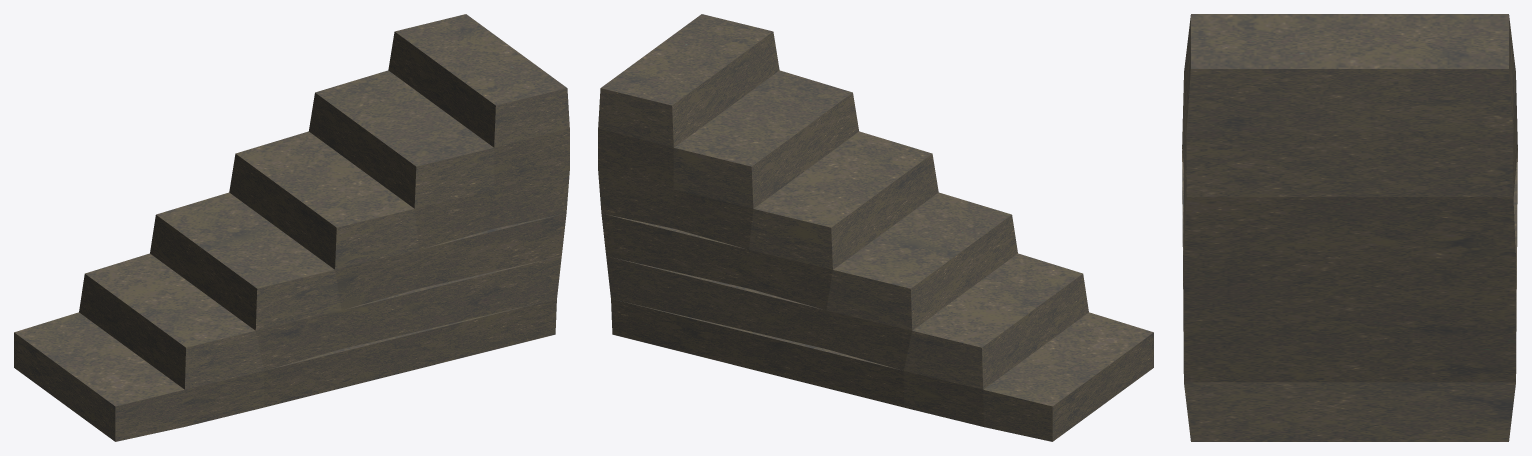
File: Stairs.fbx
The picture shows the model from 3 angles, left to right: view 1: azimuth 30°, elevation 25°; view 2: azimuth 150°, elevation 25°; view 3: azimuth 270°, elevation 25°; orthographic projection. The views are drawn at different scales.
Parts seen in each view (by area): view 1: Cube; view 2: Cube; view 3: Cube.
Boxes of the visible parts, <box> form: Cube: <box>14,14,569,441</box>; Cube: <box>598,14,1153,441</box>; Cube: <box>1182,14,1517,441</box>.
Size of the model in its own units: 1139 by 586 by 466.
1 material, 1 textured.
